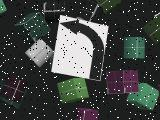Left: (52, 15, 108, 81)
